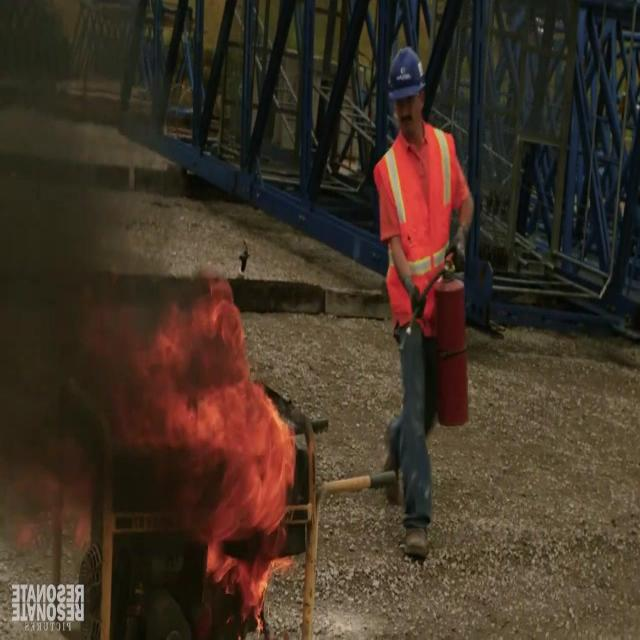Reflective-Jacket: (364, 121, 470, 353)
Safety-Helmet: (382, 38, 432, 111)
